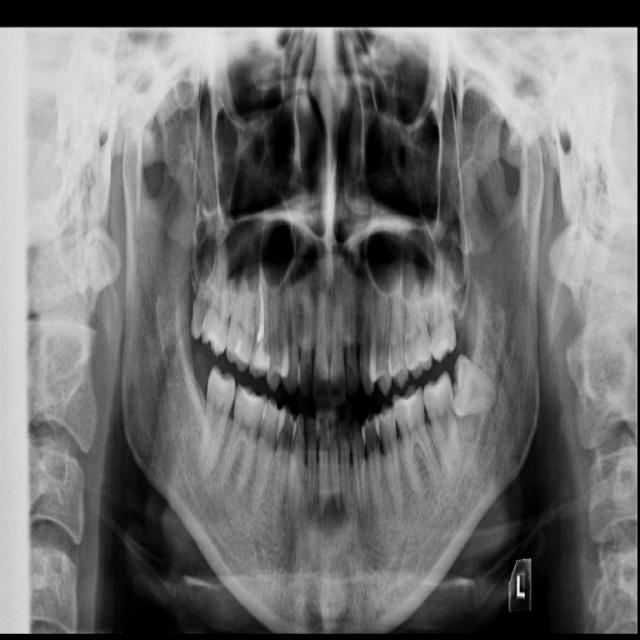Filling: (249, 347, 270, 378)
Root Canal Treatment: (258, 278, 265, 348)
impacted tooth: (453, 355, 500, 416)
